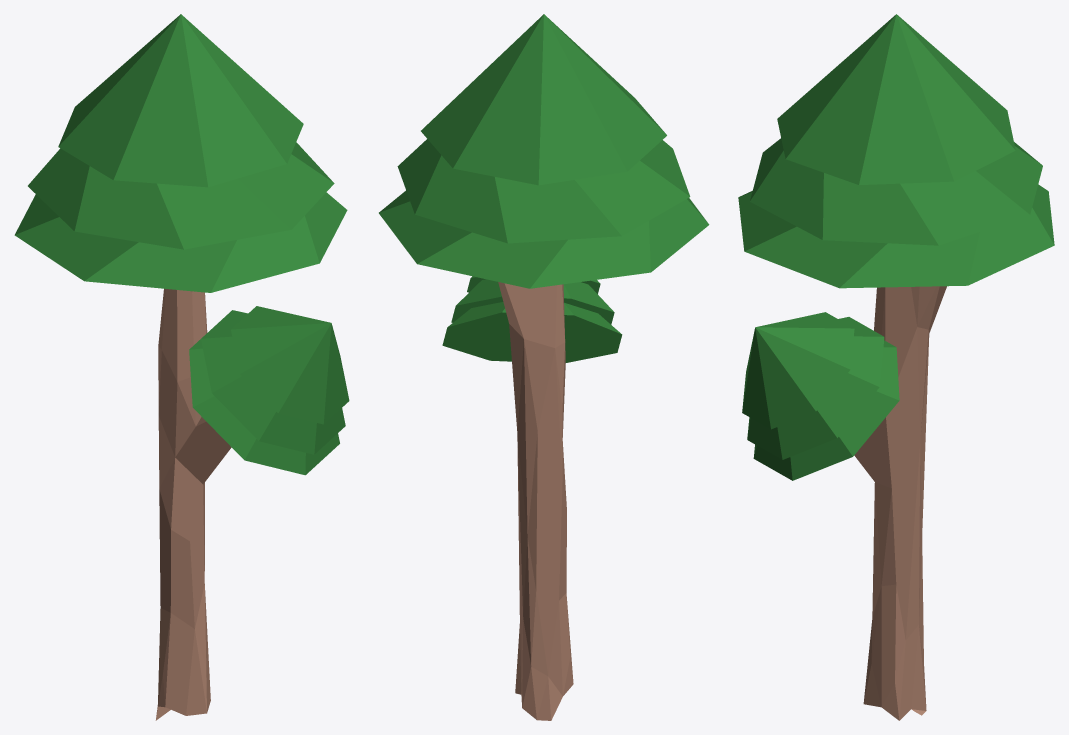
Rendered from tree2.fbx.
3 views of the same model, side by side, from view 1: azimuth 30°, elevation 25°; view 2: azimuth 150°, elevation 25°; view 3: azimuth 270°, elevation 25° (orthographic).
Parts seen in each view (by area): view 1: AshTree2; view 2: AshTree2; view 3: AshTree2.
Boxes of the visible parts, bbox=[...] form: AshTree2: bbox=[14, 14, 349, 720]; AshTree2: bbox=[379, 14, 709, 720]; AshTree2: bbox=[738, 14, 1054, 720].
Bounding box in the file's own units: 1089 × 2680 × 1089.
